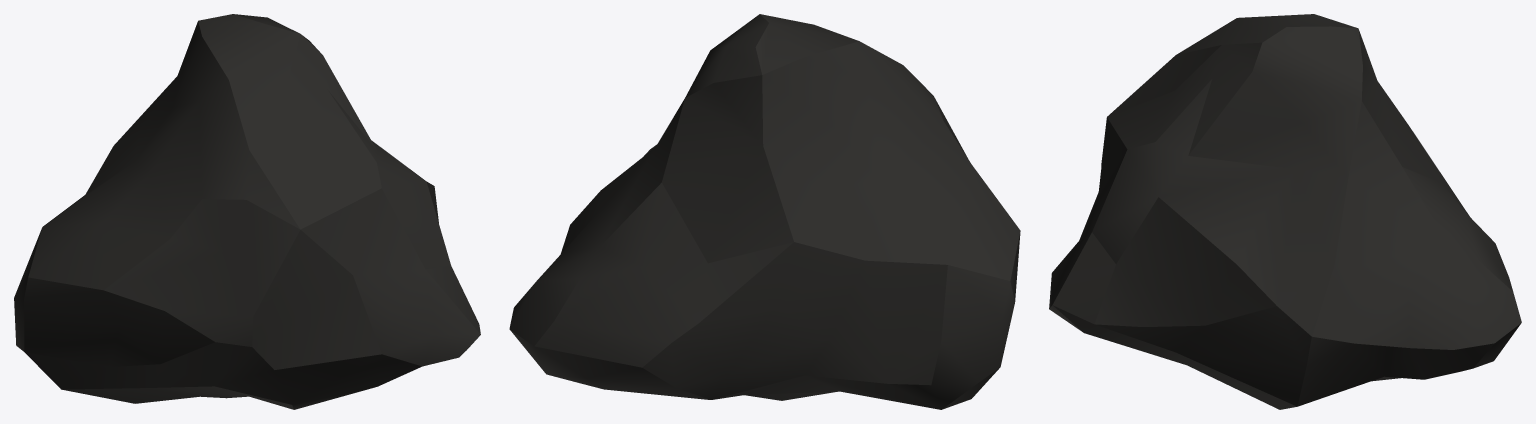
The model's file is Rock.002.fbx.
The picture shows the model from 3 angles, left to right: view 1: azimuth 30°, elevation 25°; view 2: azimuth 150°, elevation 25°; view 3: azimuth 270°, elevation 25°; orthographic projection. The views are drawn at different scales.
Parts seen in each view (by area): view 1: rock.002; view 2: rock.002; view 3: rock.002.
Boxes of the visible parts, bbox=[...] form: rock.002: bbox=[14, 14, 480, 409]; rock.002: bbox=[509, 14, 1020, 409]; rock.002: bbox=[1049, 14, 1521, 409].
Bounding box in the file's own units: 73.52 × 60.96 × 73.83.
